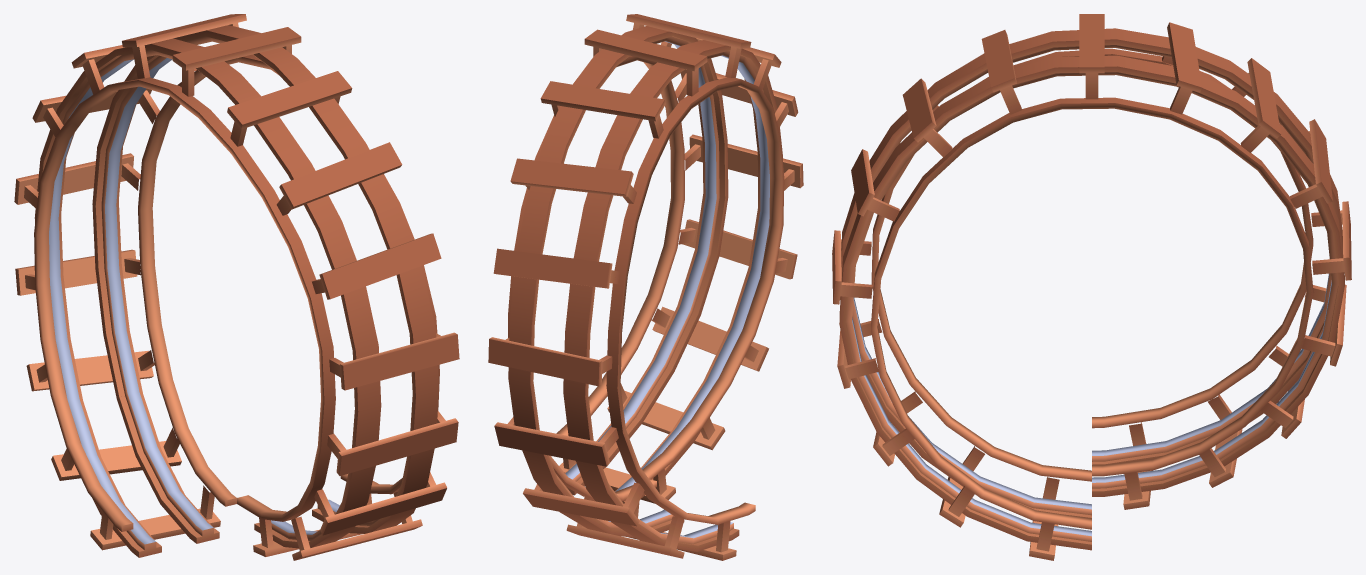
Rendered from kenney-coaster-coaster-wood-looping.glb.
3 renders of one model, left to right at view 1: azimuth 30°, elevation 25°; view 2: azimuth 150°, elevation 25°; view 3: azimuth 270°, elevation 25°, orthographic. The views are drawn at different scales.
Visible parts, largest first — view 1: coaster-wood-looping; view 2: coaster-wood-looping; view 3: coaster-wood-looping.
Part boxes in pixels (x1,y1,x2,y2): coaster-wood-looping: [14, 14, 459, 560]; coaster-wood-looping: [488, 14, 803, 560]; coaster-wood-looping: [832, 14, 1351, 560].
Bounding box in the file's own units: 2 × 4.09 × 4.11.
Materials: 1 (1 with a texture image).
